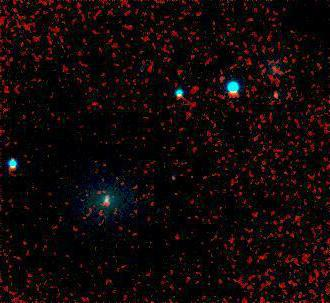star: (86, 187, 116, 217)
